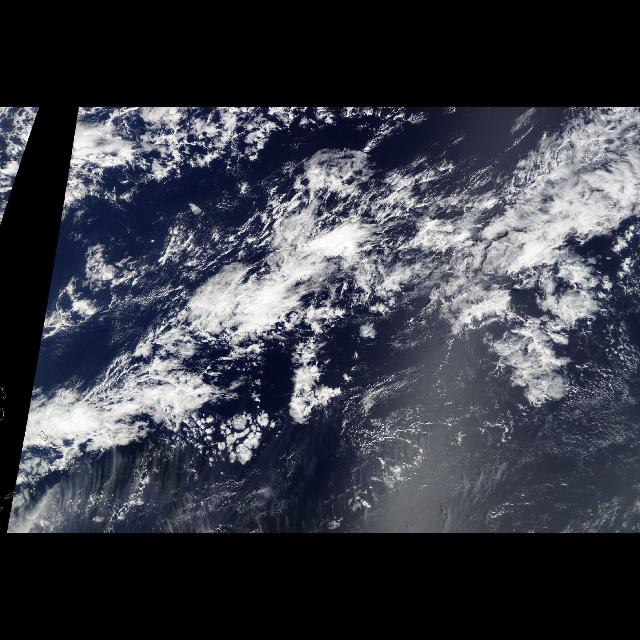Fish: (67, 192, 391, 468)
Sugar: (368, 418, 636, 476)
